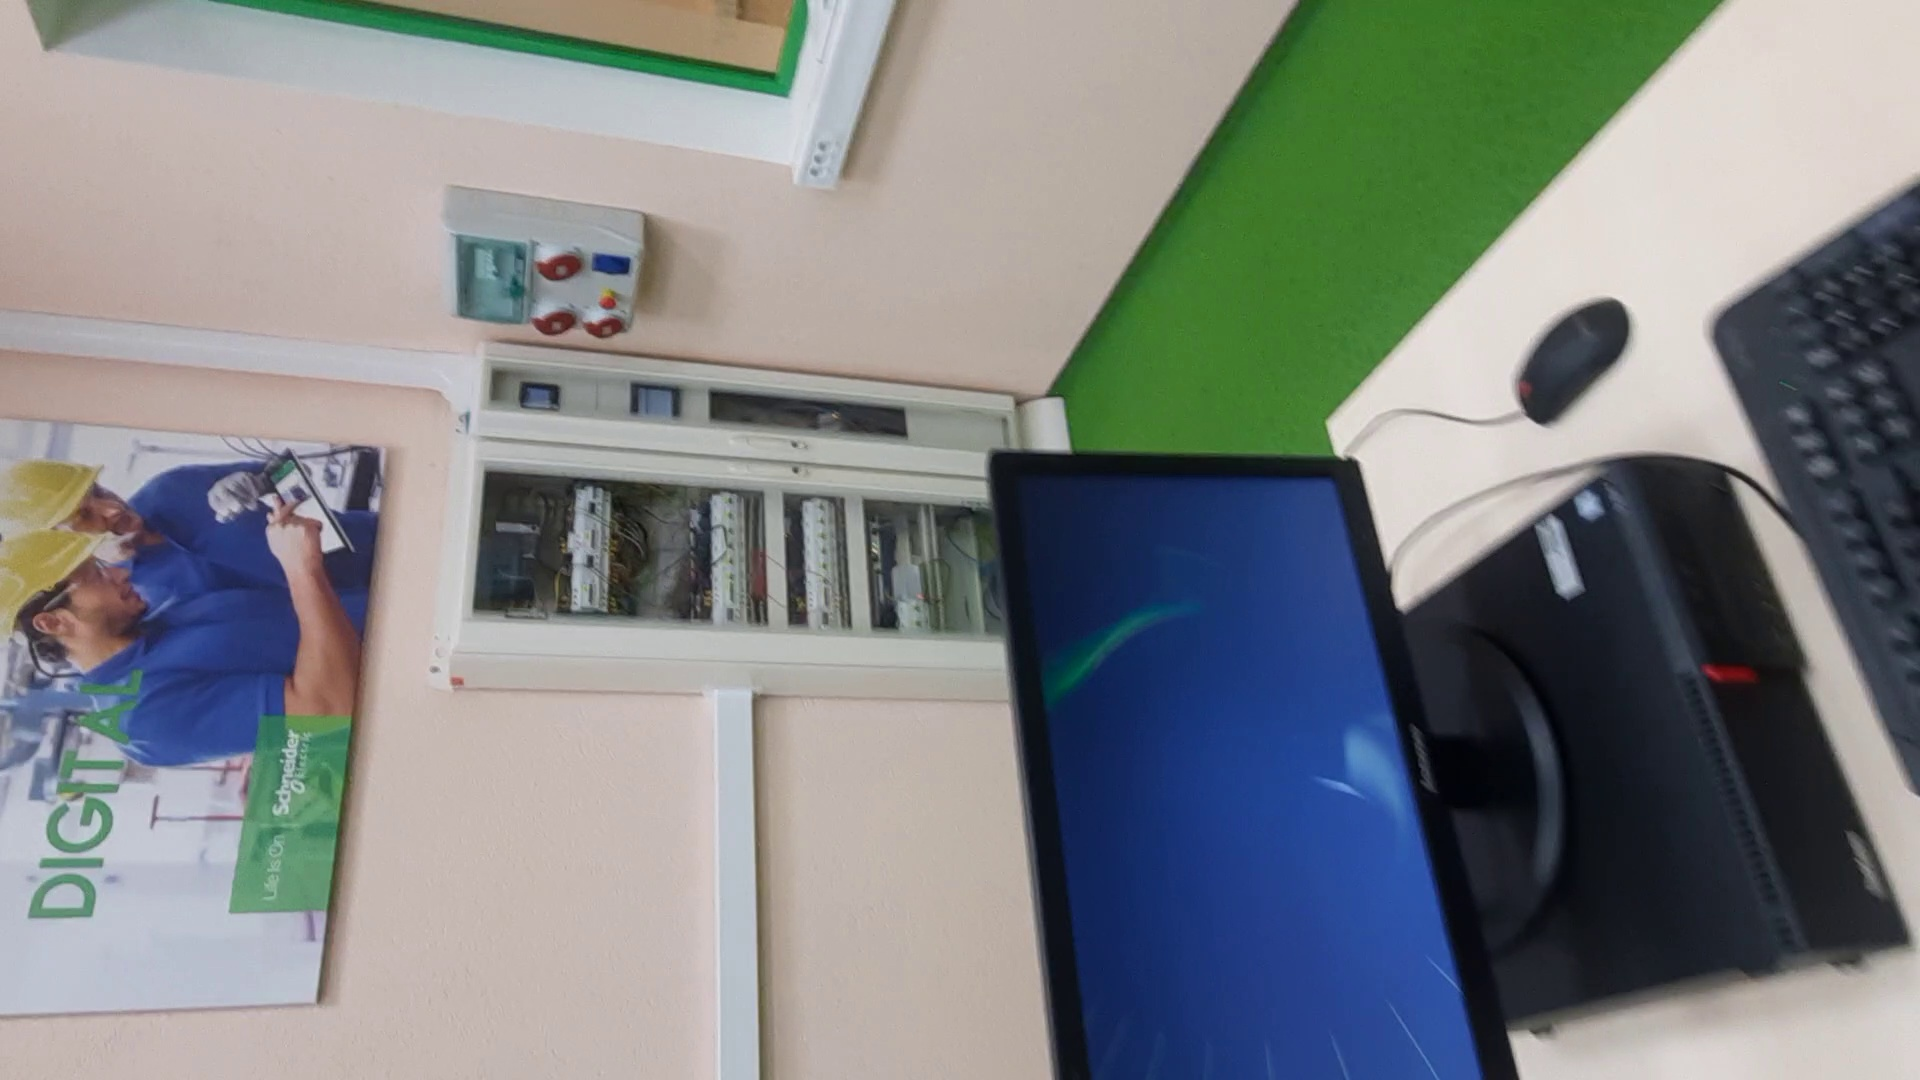stand1: (444, 331, 990, 690)
